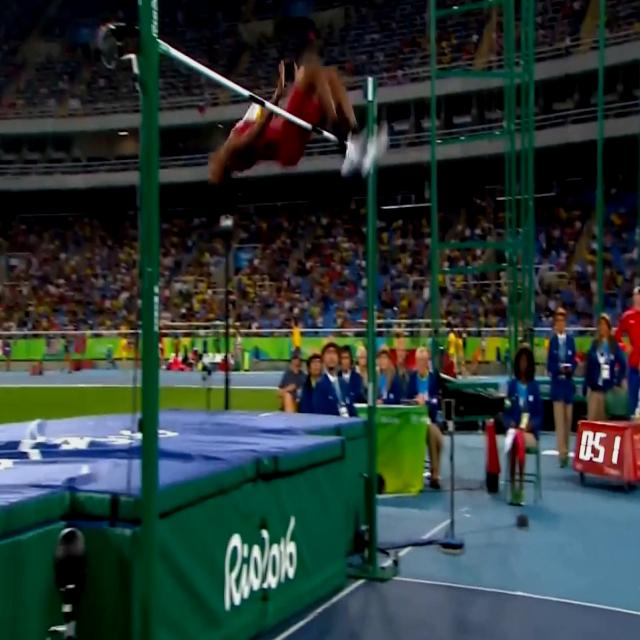jump: (204, 46, 389, 195)
